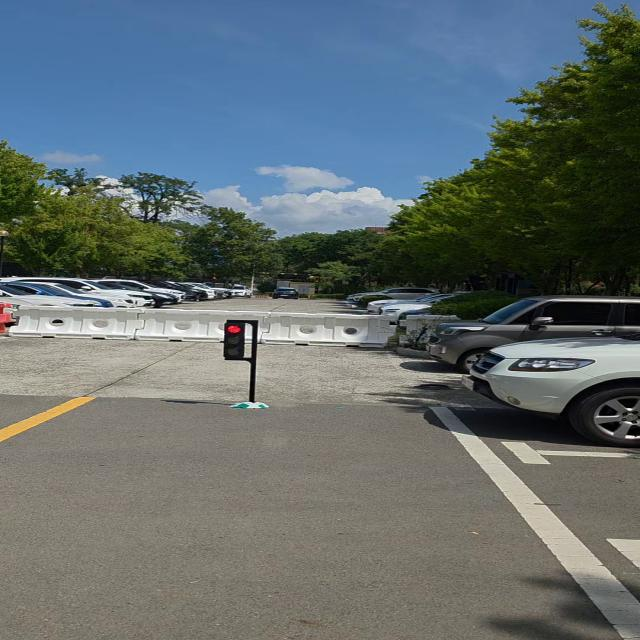red: (220, 319, 248, 362)
